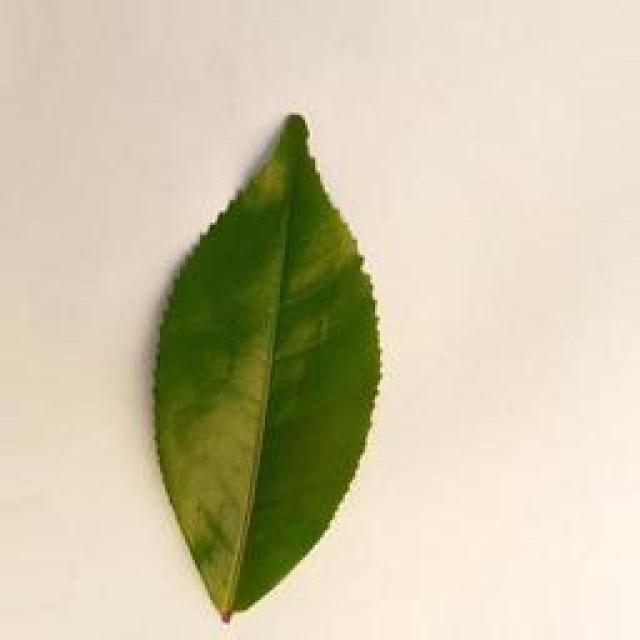Healthy: (128, 107, 393, 630)
